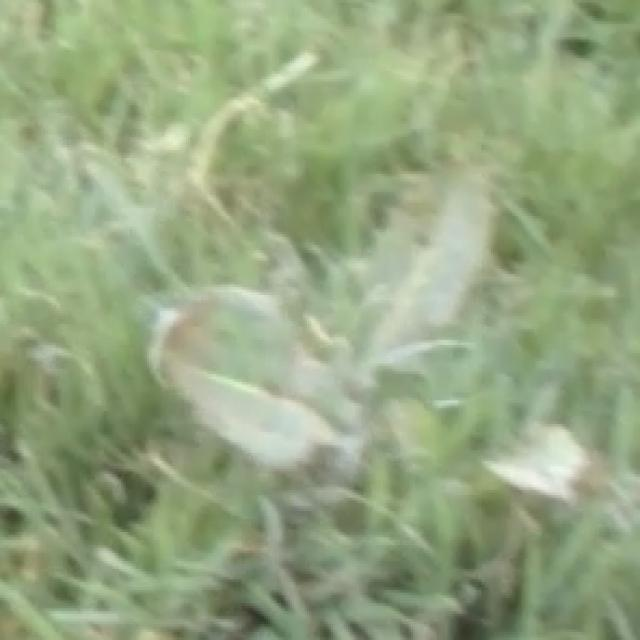organic waste: (125, 150, 555, 509)
